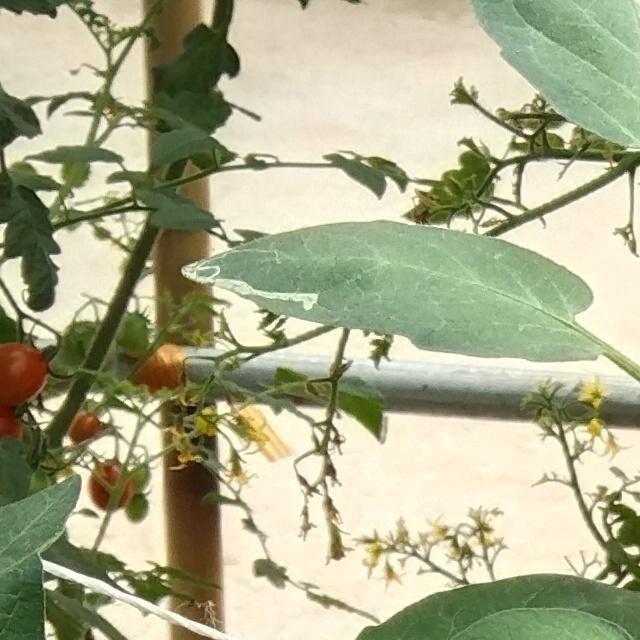Leaf_Miner: (176, 214, 606, 369)
